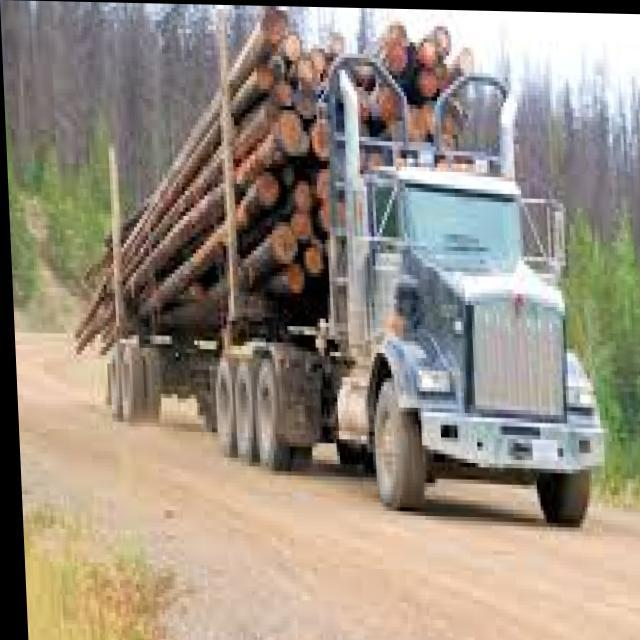uncovered: (86, 6, 600, 520)
